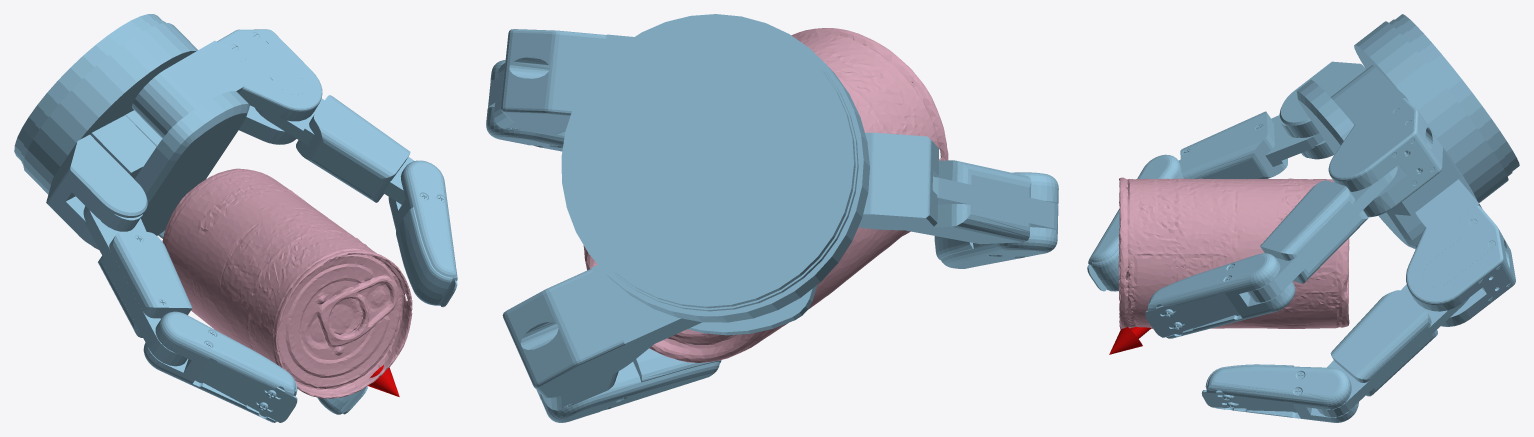
3 views of the same model, side by side, from view 1: azimuth 30°, elevation 25°; view 2: azimuth 150°, elevation 25°; view 3: azimuth 270°, elevation 25° (orthographic). The views are drawn at different scales.
Visible parts, largest first — view 1: world, tomato_soup_can.stl; view 2: world, tomato_soup_can.stl; view 3: world, tomato_soup_can.stl.
Boxes of the visible parts, left/top/right/bottom form: world: left=14, top=14, right=457, bottom=422; tomato_soup_can.stl: left=162, top=168, right=412, bottom=398; world: left=486, top=14, right=1058, bottom=422; tomato_soup_can.stl: left=583, top=28, right=948, bottom=362; world: left=1087, top=14, right=1519, bottom=422; tomato_soup_can.stl: left=1118, top=177, right=1349, bottom=329.
Size of the model in its own units: 0.1705 by 0.1624 by 0.191.
